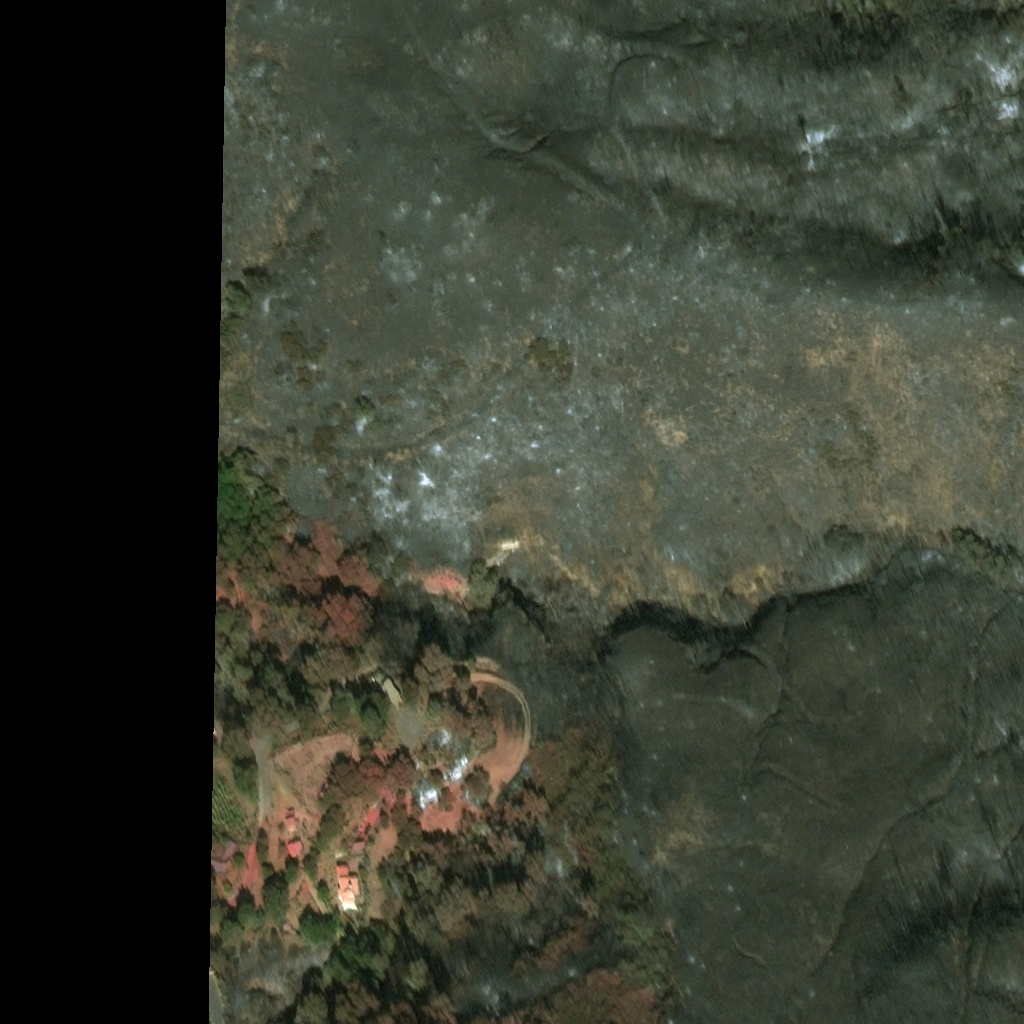0 no-damage: (333, 861, 362, 907), (380, 678, 406, 708), (316, 775, 335, 799), (218, 828, 238, 849), (282, 831, 302, 851), (208, 847, 229, 858), (282, 810, 297, 824), (350, 839, 365, 853), (283, 799, 292, 810)
4 un-classified: (210, 720, 216, 730)
